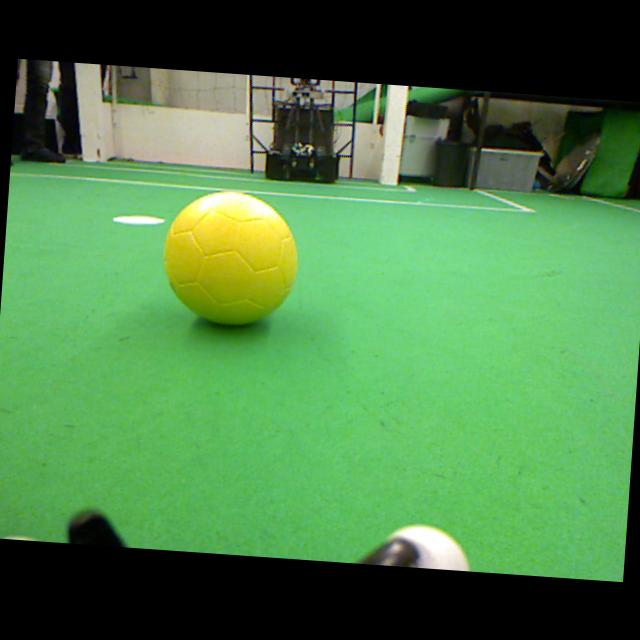ball: (163, 191, 297, 324)
goal: (380, 84, 409, 184), (74, 62, 98, 161)
robot: (265, 77, 340, 184)
